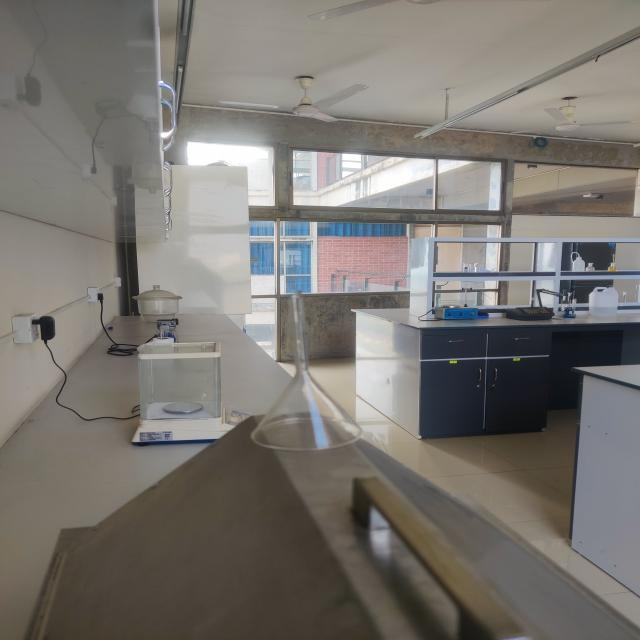Funnel: (244, 255, 380, 472)
